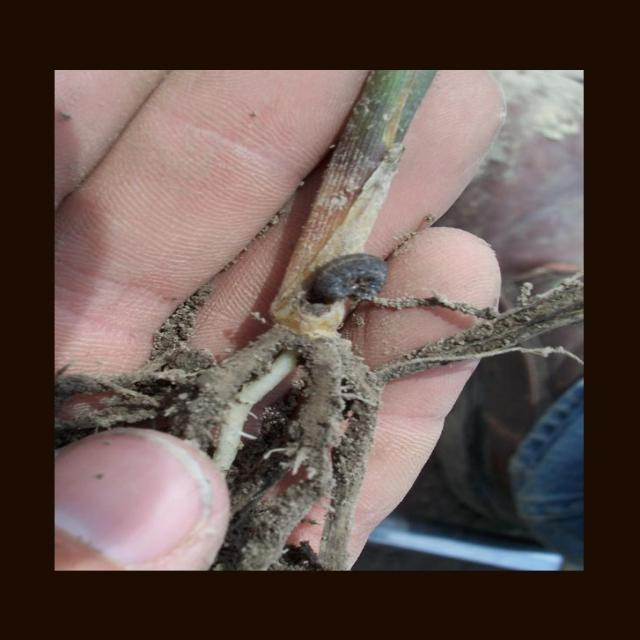black cutworm: (308, 250, 391, 312)
